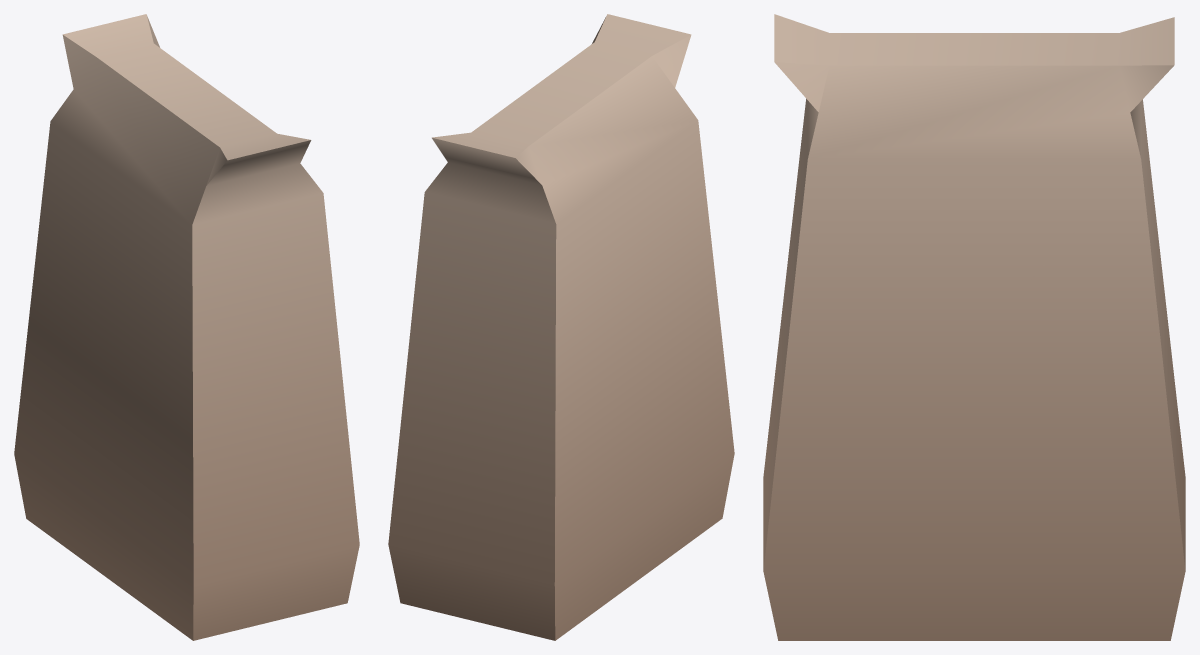
File: bag.glb
The picture shows the model from 3 angles, left to right: view 1: azimuth 30°, elevation 25°; view 2: azimuth 150°, elevation 25°; view 3: azimuth 270°, elevation 25°; orthographic projection. The views are drawn at different scales.
Visible parts, largest first — view 1: bag; view 2: bag; view 3: bag.
Part boxes in pixels (bbox=[...]): bag: bbox=[14, 14, 359, 640]; bag: bbox=[388, 14, 734, 640]; bag: bbox=[763, 14, 1185, 640].
Size of the model in its own units: 0.2201 by 0.5998 by 0.4118.
